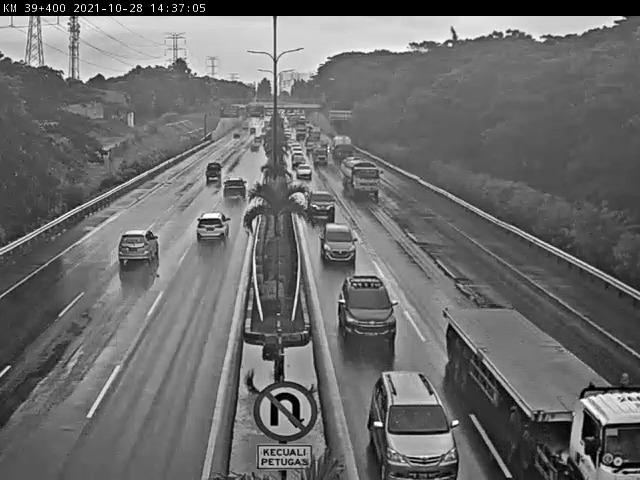big truck: (427, 287, 640, 480), (337, 154, 388, 204), (325, 131, 358, 166)
car: (363, 363, 465, 480), (330, 271, 403, 347), (107, 222, 164, 277), (312, 216, 363, 276), (192, 204, 236, 253), (302, 179, 341, 229), (218, 170, 254, 209), (198, 158, 227, 188), (291, 160, 315, 185)
